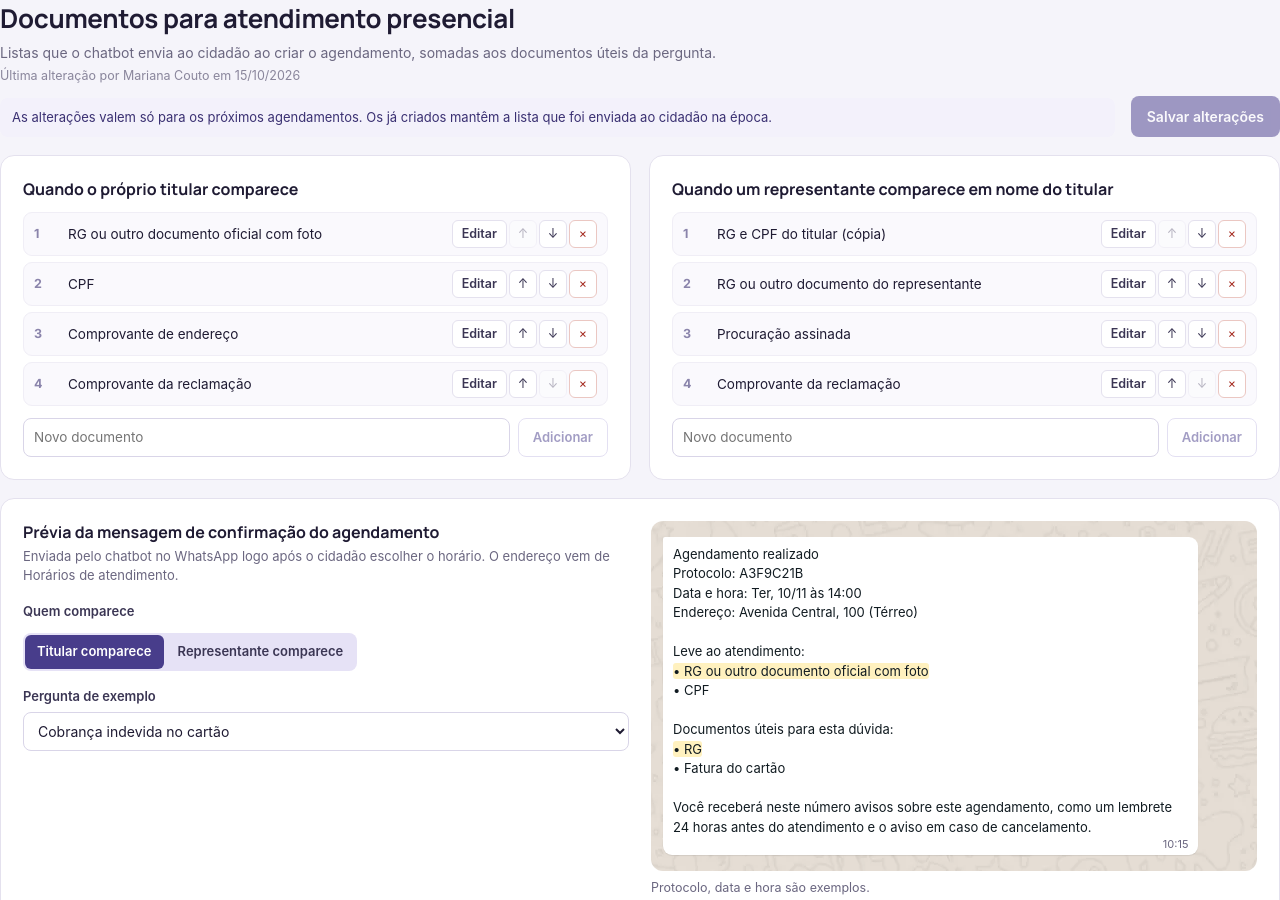
DocumentsPage › 400 ao salvar mostra o item e o motivo vindos do backend sem aninhamento inválido
This screenshot has width=1280, height=900.
Step 1. Click the button named "Remover CPF" → (583, 284), box [569,270,597,298]
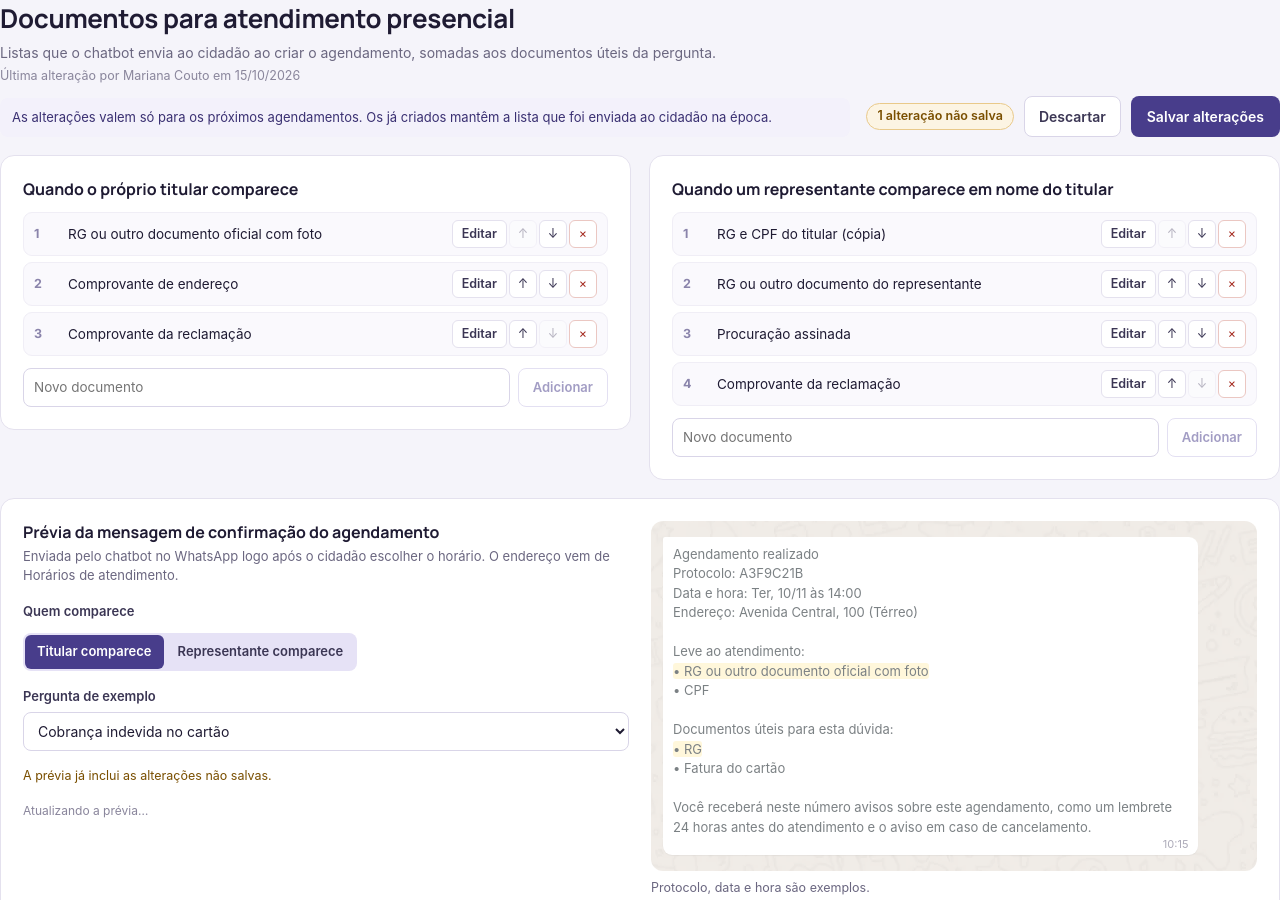
Step 2. Click the button "Salvar alterações" → (1205, 117), box [1131,96,1279,137]
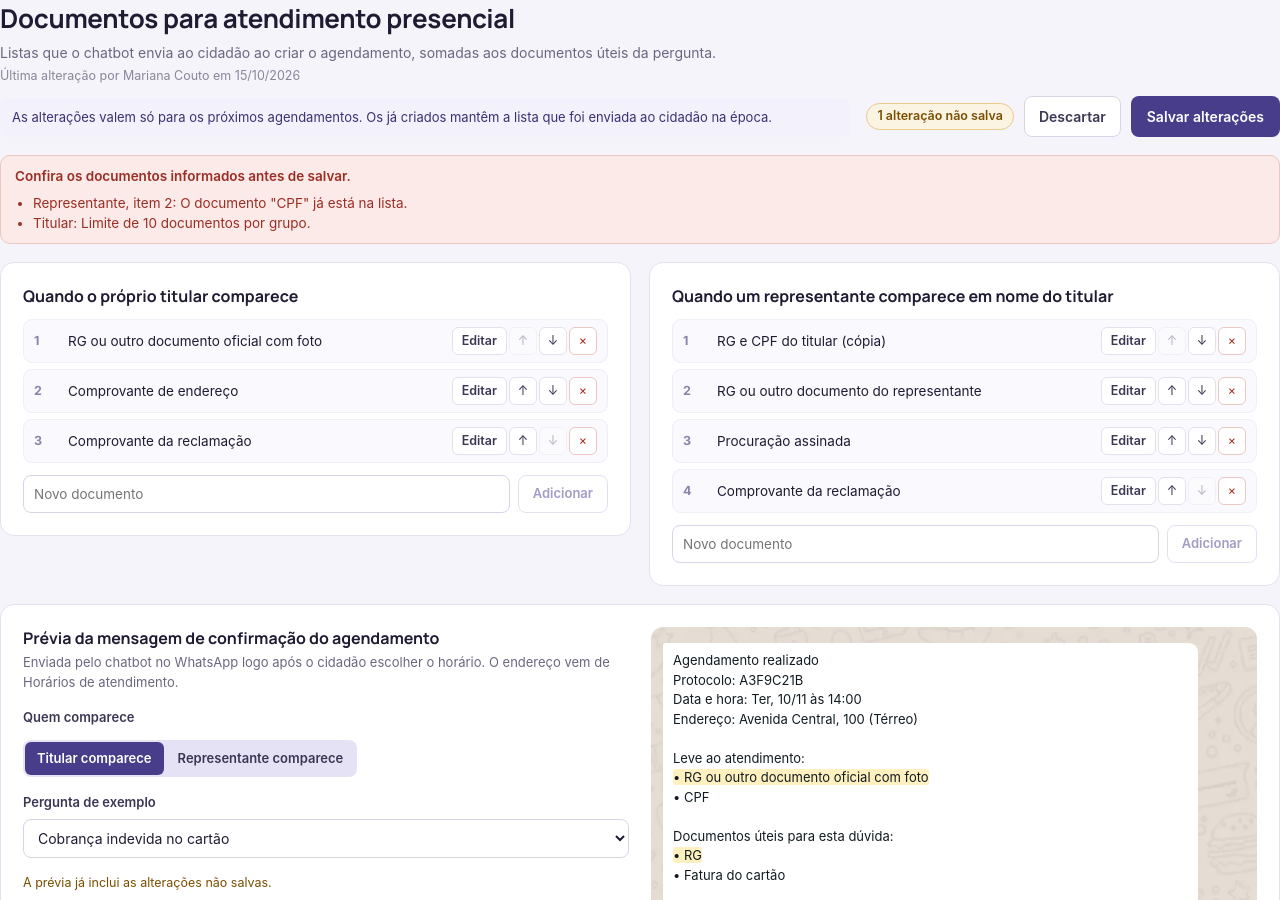
Expected: the message shows "Confira os documentos informados antes de salvar.", [15,168,351,184]
Expected: the message shows "Representante, item 2: O documento \"CPF\" já está na lista.", [33,194,408,210]
Expected: the message shows "Titular: Limite de 10 documentos por grupo.", [33,215,311,231]
